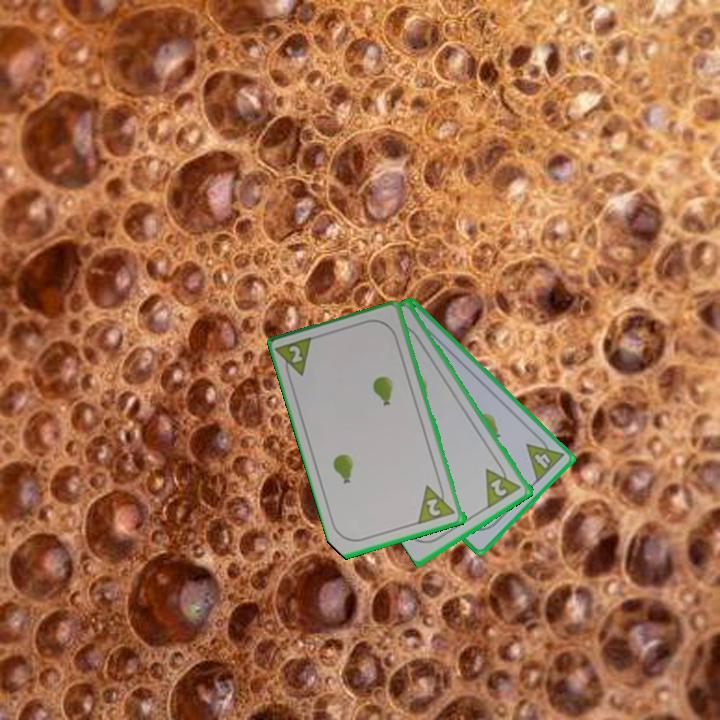2p: (482, 458, 524, 511), (274, 333, 318, 383), (415, 479, 458, 527)
4p: (523, 431, 567, 485)
